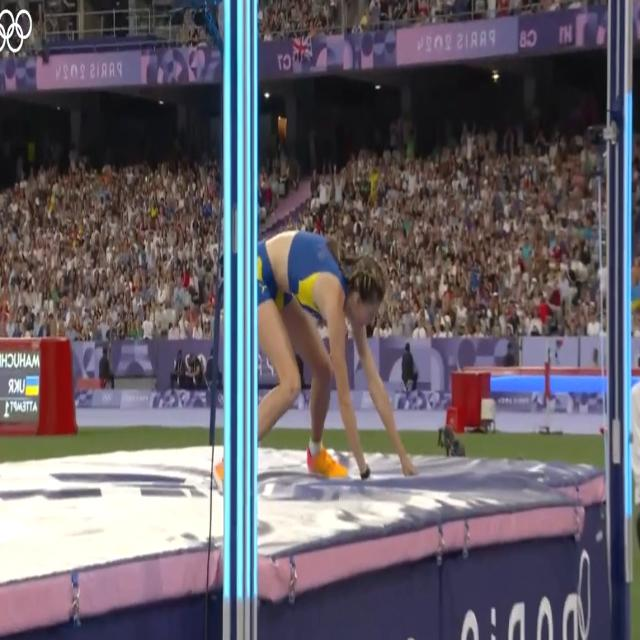land: (211, 228, 421, 497)
